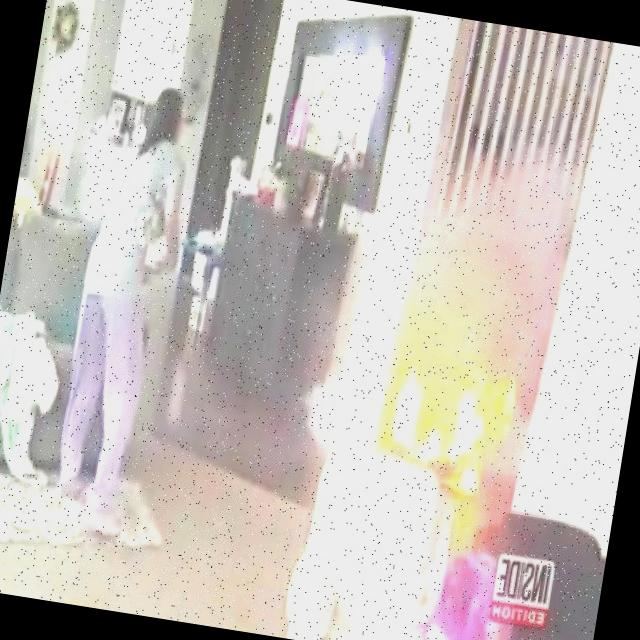fire: (364, 344, 510, 500)
smoke: (372, 184, 572, 354)
